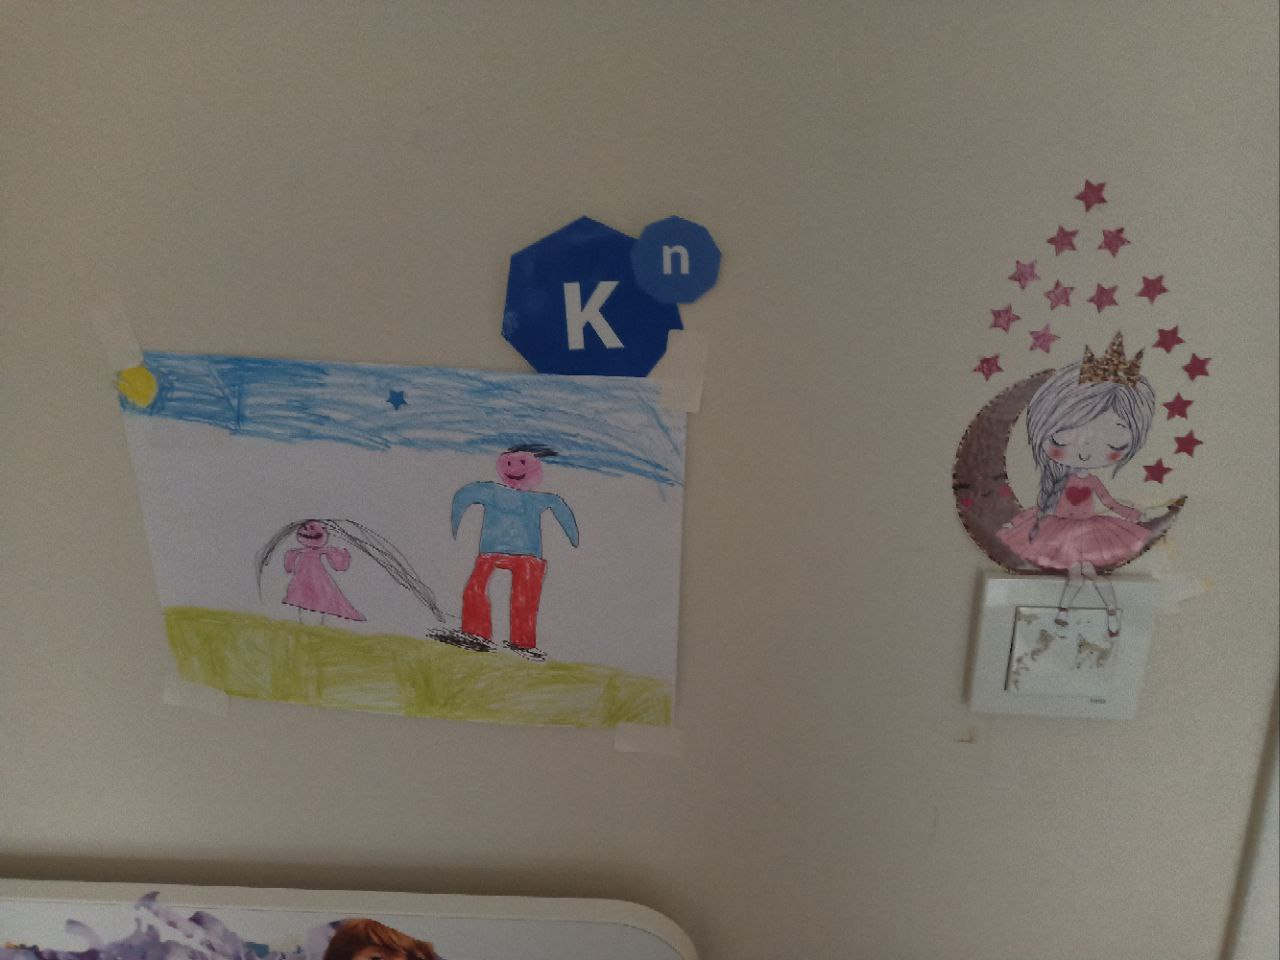knative: (498, 211, 723, 380)
